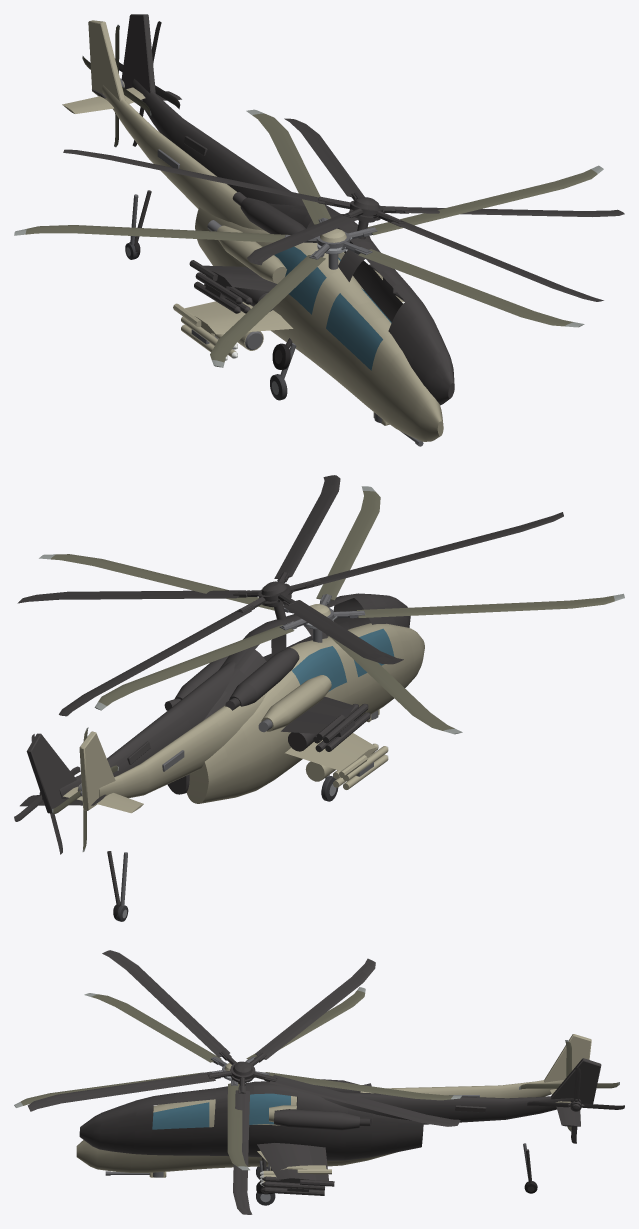
File: gunship__z_10.glb
3 renders of one model, top to bottom at view 1: azimuth 30°, elevation 25°; view 2: azimuth 150°, elevation 25°; view 3: azimuth 270°, elevation 25°, orthographic. The views are drawn at different scales.
Visible parts, largest first — view 1: Wreck, Fuselage_Mesh, Rotor_Main_Mesh, Stub_Wings_Stores_Mesh, Engines_Mesh, Landing_Gear_Mesh, Rotor_Tail_Mesh; view 2: Wreck, Fuselage_Mesh, Rotor_Main_Mesh, Stub_Wings_Stores_Mesh, Engines_Mesh, Landing_Gear_Mesh; view 3: Wreck, Fuselage_Mesh, Rotor_Main_Mesh, Rotor_Tail_Mesh, Stub_Wings_Stores_Mesh, Landing_Gear_Mesh.
Boxes of the visible parts, left/top/right/bottom form: Wreck: left=63, top=14, right=624, bottom=405; Fuselage_Mesh: left=62, top=20, right=443, bottom=441; Rotor_Main_Mesh: left=14, top=109, right=603, bottom=367; Stub_Wings_Stores_Mesh: left=173, top=270, right=404, bottom=360; Engines_Mesh: left=207, top=220, right=344, bottom=283; Landing_Gear_Mesh: left=125, top=194, right=296, bottom=400; Rotor_Tail_Mesh: left=82, top=24, right=151, bottom=147; Wreck: left=14, top=475, right=563, bottom=919; Fuselage_Mesh: left=63, top=623, right=424, bottom=813; Rotor_Main_Mesh: left=39, top=486, right=624, bottom=734; Stub_Wings_Stores_Mesh: left=285, top=733, right=388, bottom=789; Engines_Mesh: left=258, top=675, right=331, bottom=732; Landing_Gear_Mesh: left=116, top=775, right=338, bottom=921; Wreck: left=27, top=950, right=624, bottom=1214; Fuselage_Mesh: left=76, top=1034, right=591, bottom=1172; Rotor_Main_Mesh: left=14, top=987, right=462, bottom=1170; Rotor_Tail_Mesh: left=519, top=1040, right=619, bottom=1131; Stub_Wings_Stores_Mesh: left=257, top=1151, right=331, bottom=1186; Landing_Gear_Mesh: left=256, top=1143, right=536, bottom=1205.
Size of what is drawn, in the model's own units: 12.51 by 5.58 by 16.93.
